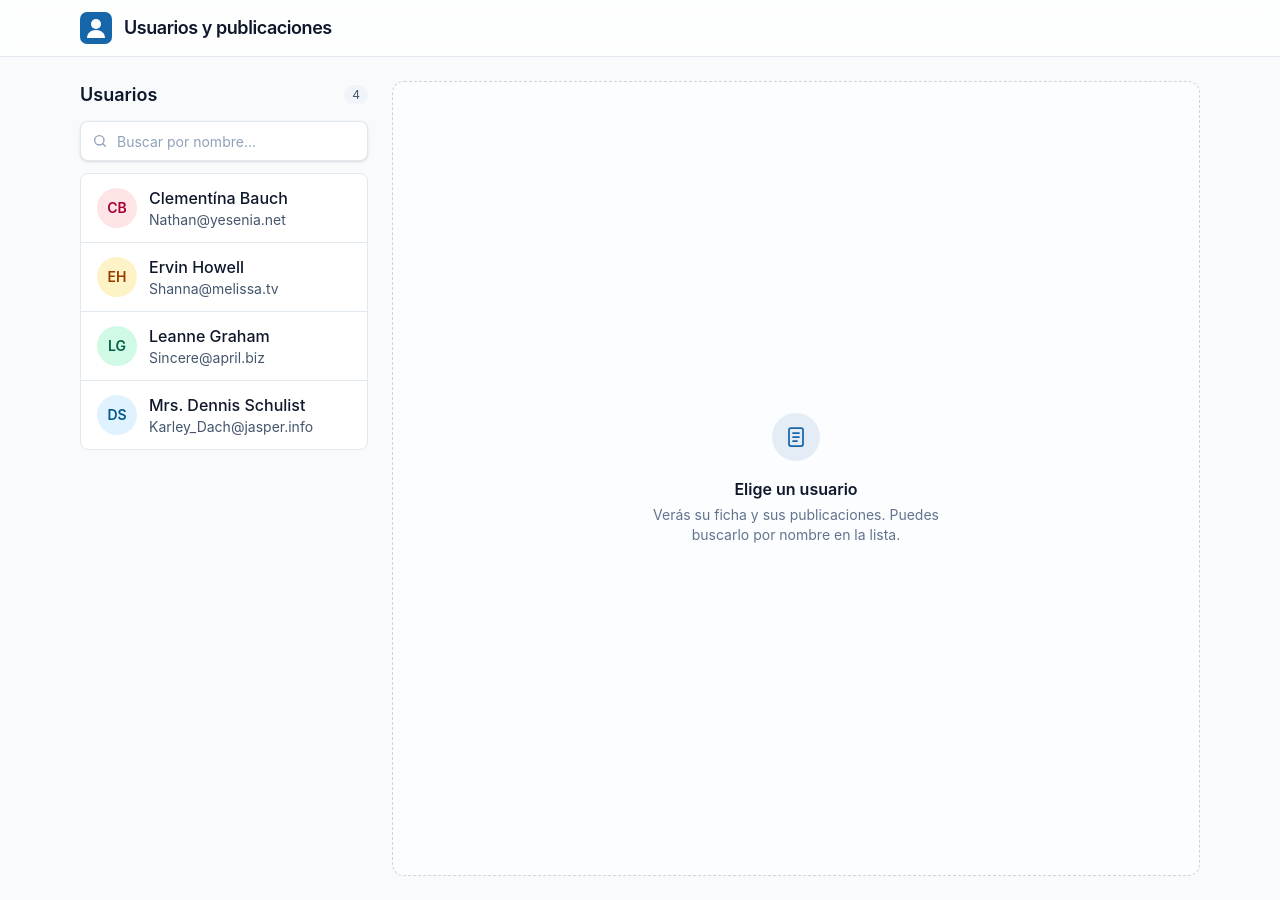
Test case: Lista de usuarios › elegir un usuario abre su detalle y lo marca como actual
Expected: the list is shown, [80,173,368,450]
Click the link "LG Leanne Graham Sincere@april.biz": click(183, 346) [97,326,270,366]
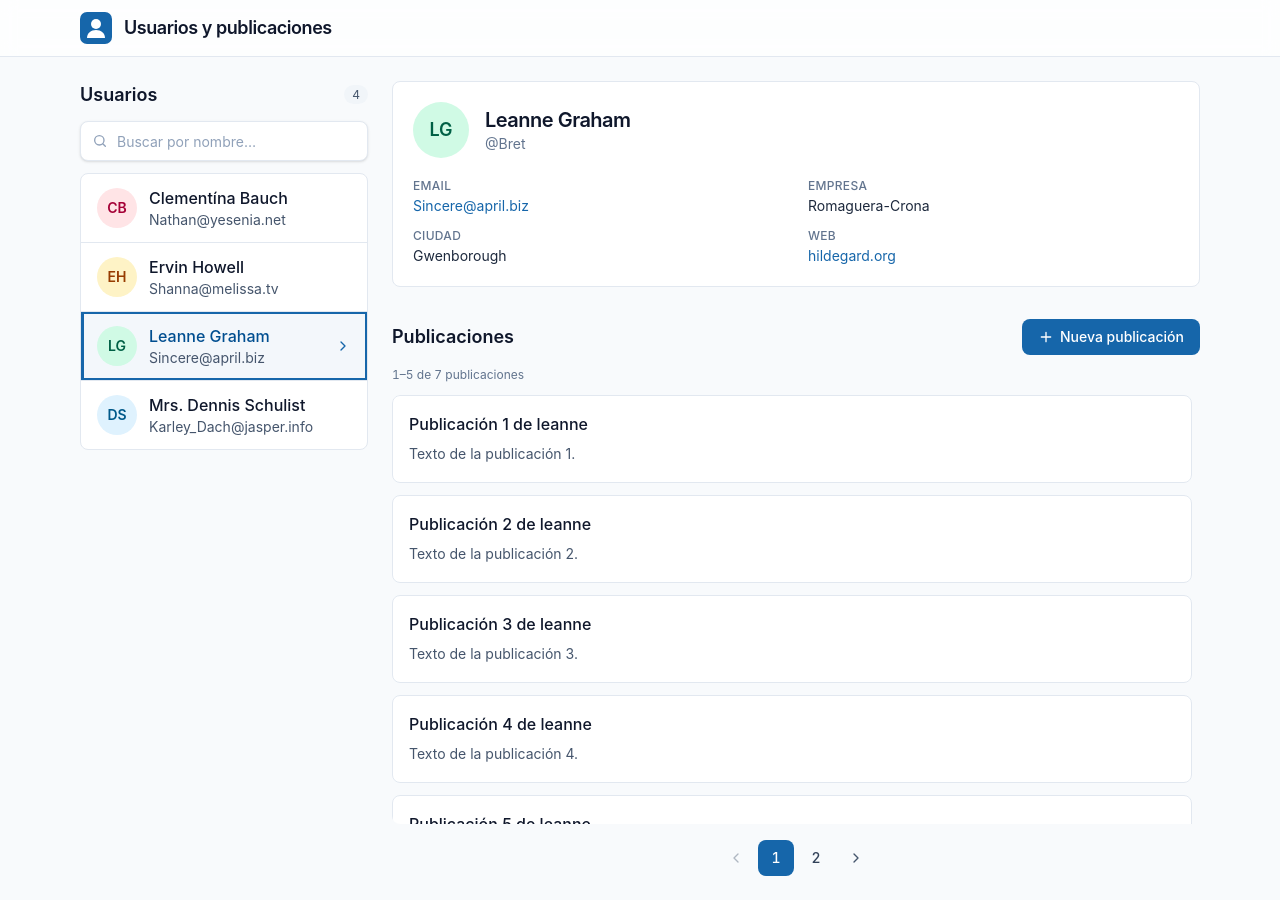
Now the heading "Leanne Graham" is shown, box [485,106,631,134]
